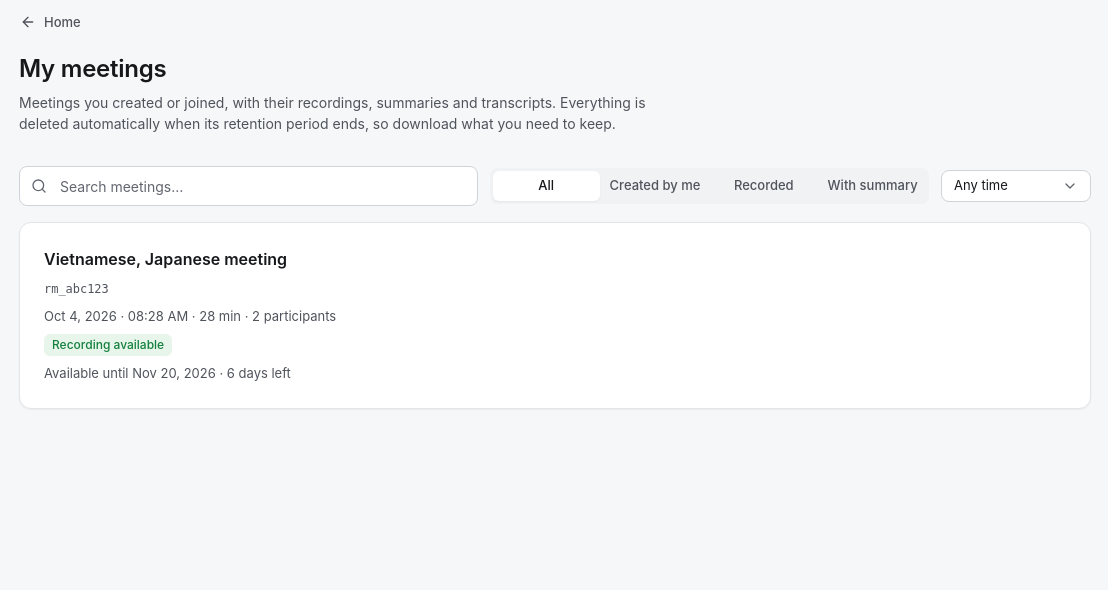
Test: My meetings › filters and searches on the server, debounced, and shows content matches
The image size is (1108, 590).
Expected: the link "Vietnamese, Japanese meeting" is shown, [44,247,287,271]
Click the radio button labelled "Recorded" at (764, 186), box [710,171,817,201]
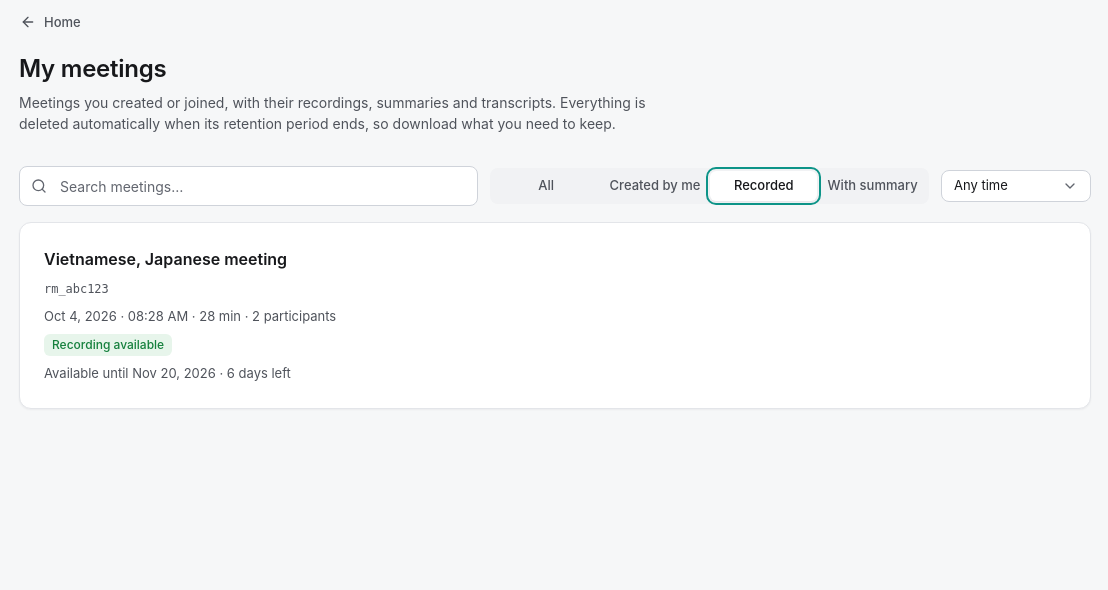
Type "production" into the search field labelled "Search meetings" at (248, 186), box [19,166,478,206]
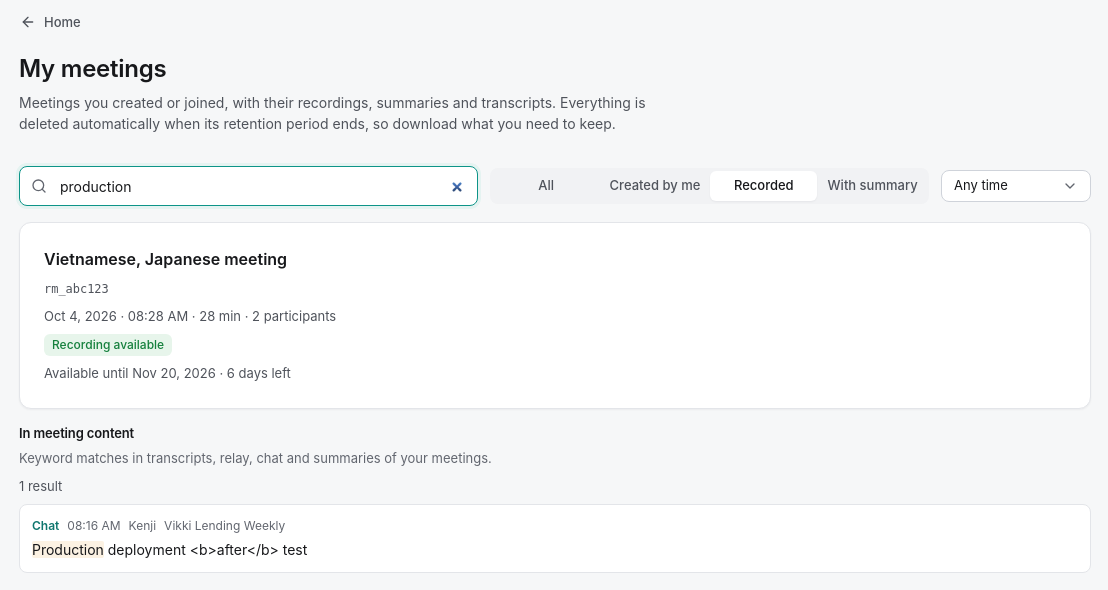
Now the text "1 result" is shown, box [19,478,62,494]
Now the text "deployment <b>after</b> test" is shown, box [104,541,307,558]
